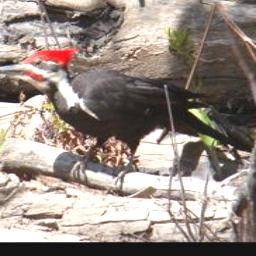Woodpecker: (0, 45, 253, 190)
